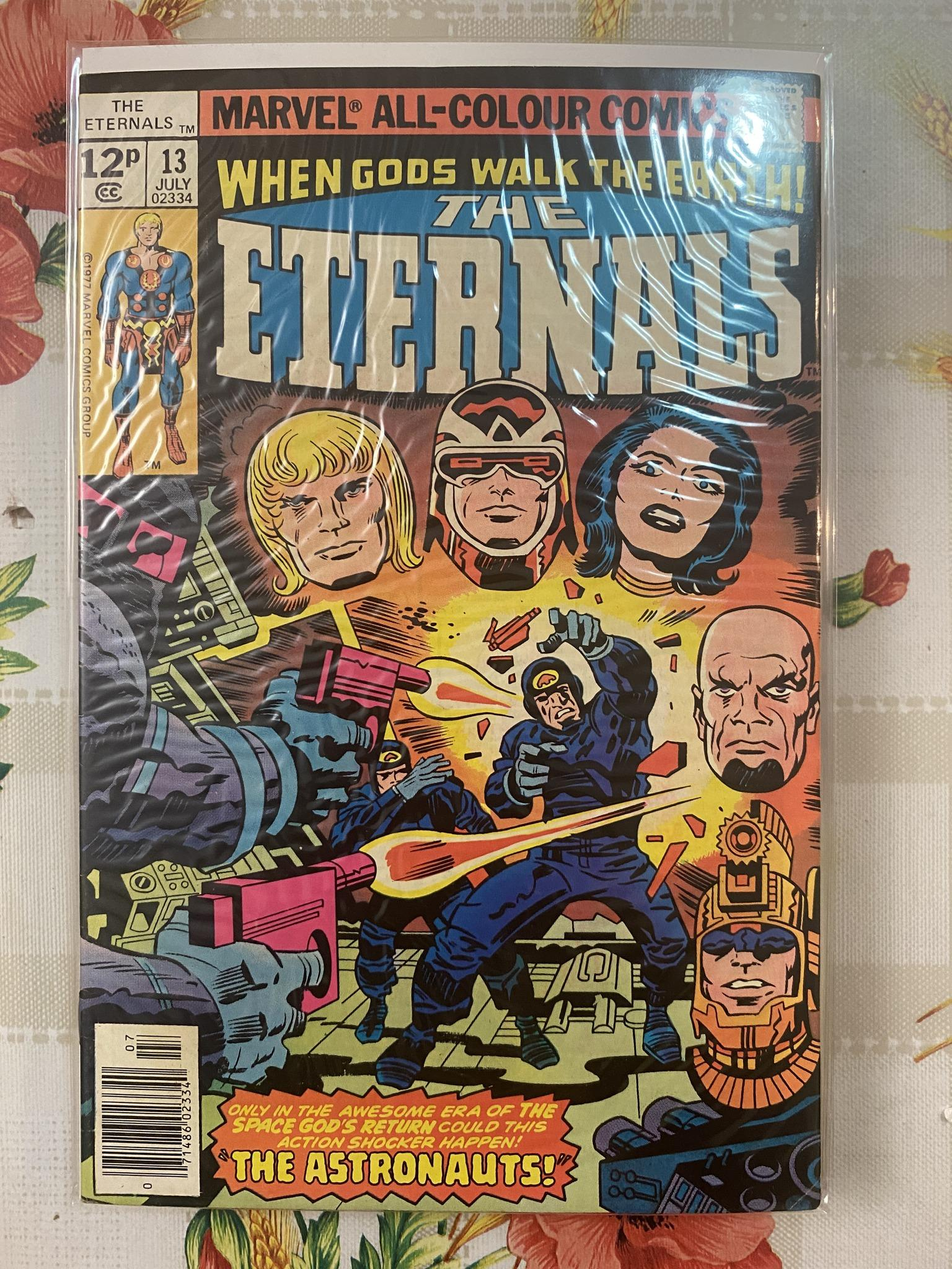comic: (73, 47, 821, 1213)
